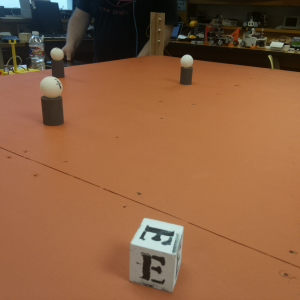obstacle: (40, 77, 66, 129), (49, 48, 68, 78), (180, 54, 195, 87)
